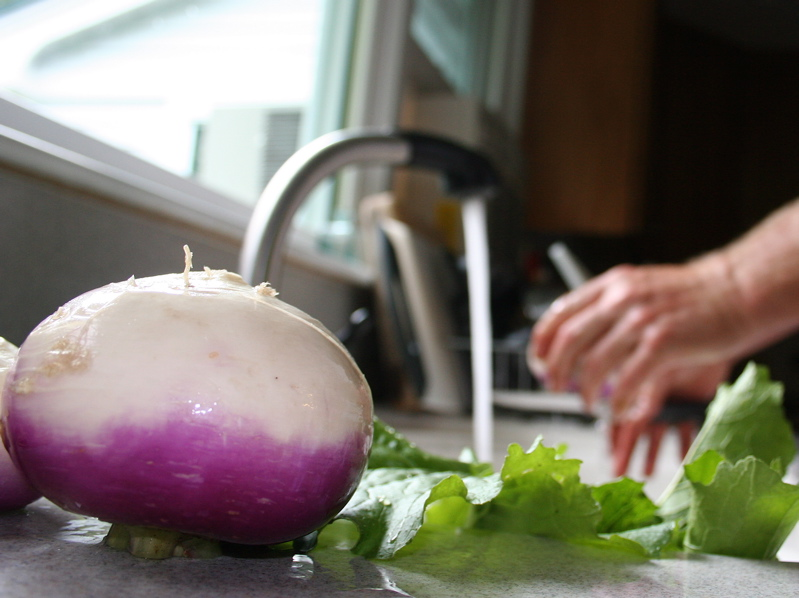turnip: (4, 240, 377, 560)
